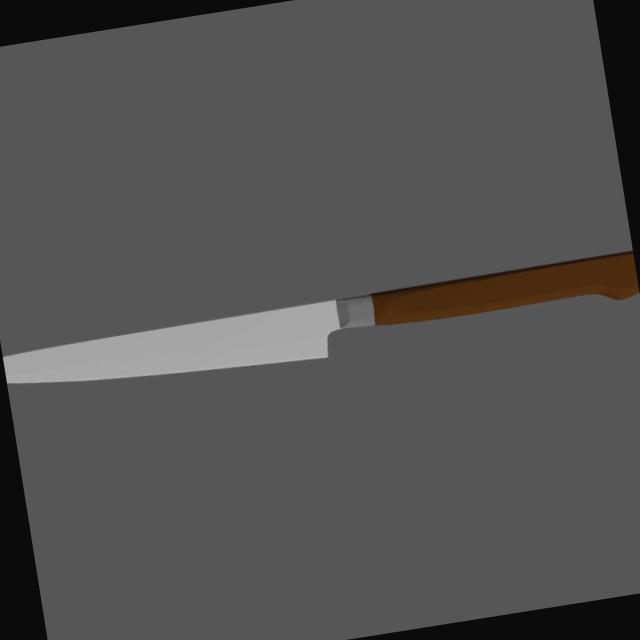knife: (367, 250, 640, 339)
